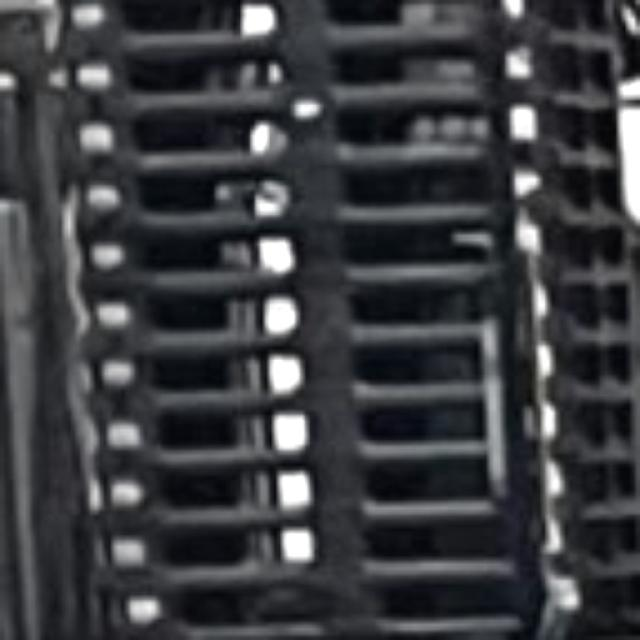igps: (72, 334, 640, 412), (86, 570, 640, 640), (77, 515, 640, 579), (75, 396, 640, 459), (69, 215, 640, 276), (70, 457, 640, 518), (49, 159, 637, 218), (60, 38, 628, 98), (52, 102, 629, 160), (69, 283, 640, 340), (51, 0, 640, 40)
